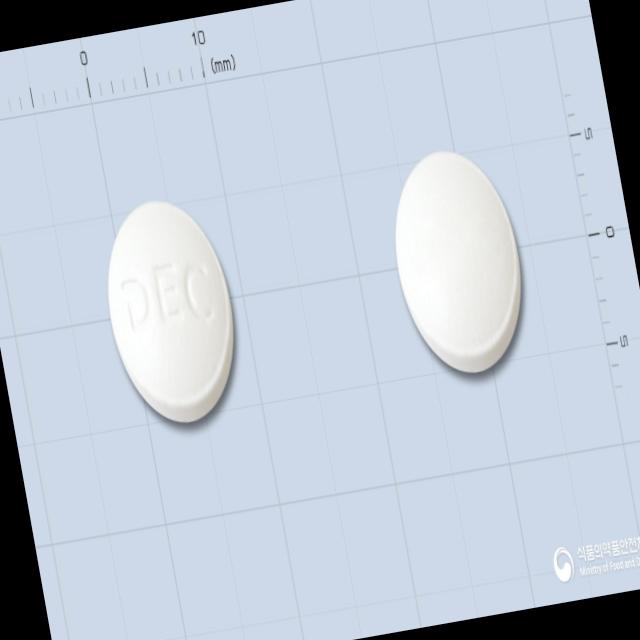Eprosin: (90, 188, 251, 434)
